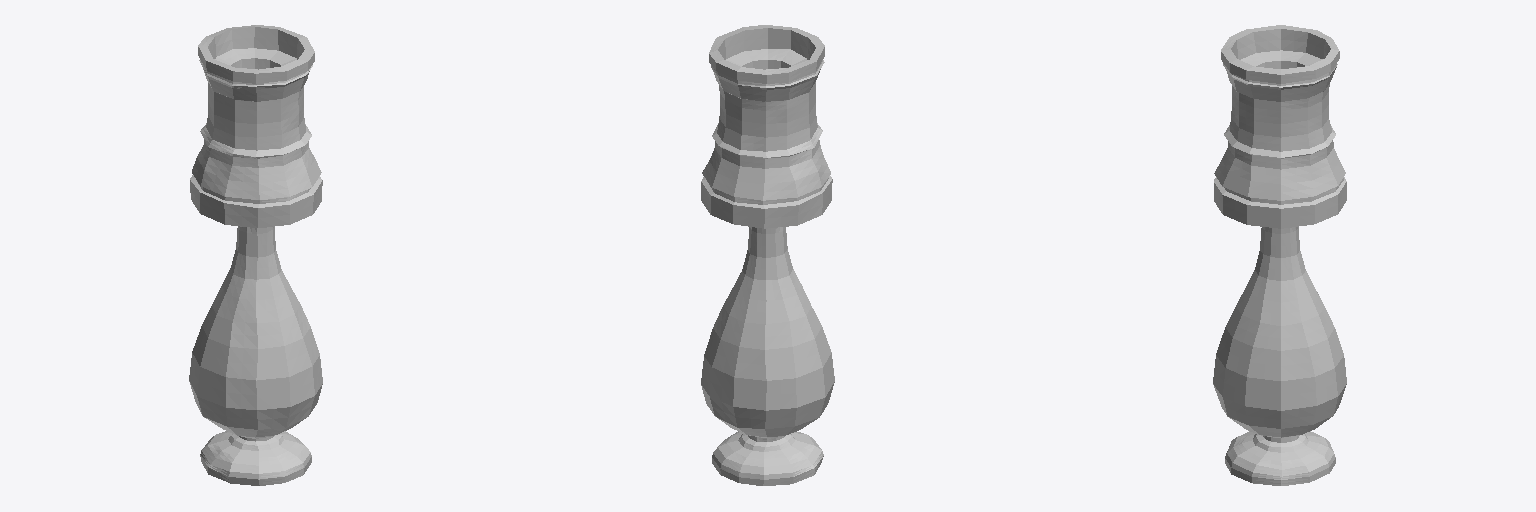
File: wiezaMOC.obj
3 renders of one model, left to right at view 1: azimuth 30°, elevation 25°; view 2: azimuth 150°, elevation 25°; view 3: azimuth 270°, elevation 25°, orthographic.
Visible parts, largest first — view 1: wieza.low.poly_Icosphere.004; view 2: wieza.low.poly_Icosphere.004; view 3: wieza.low.poly_Icosphere.004.
Boxes of the visible parts, box(x1,y1,x2,y2) form: wieza.low.poly_Icosphere.004: box(189, 25, 322, 485); wieza.low.poly_Icosphere.004: box(701, 25, 834, 485); wieza.low.poly_Icosphere.004: box(1213, 25, 1346, 485).
Bounding box in the file's own units: 1.22 × 4.16 × 1.22.